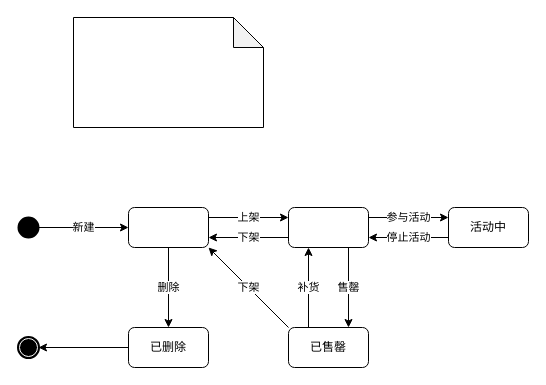
The diagram is 546 pixels wide and 385 high, and some of its shapes have lost their labels. Each missing label, with the box of its shape:
已上架: (288, 206, 368, 248)
未上架: (128, 206, 208, 248)
